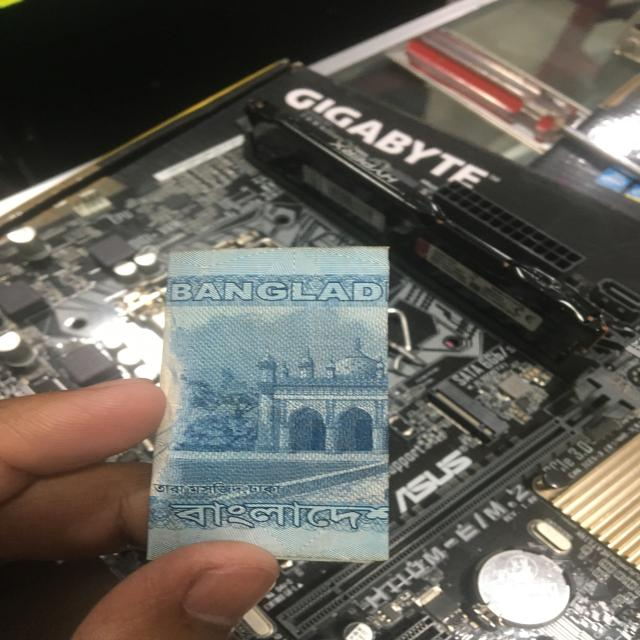Taka: (162, 246, 399, 569)
